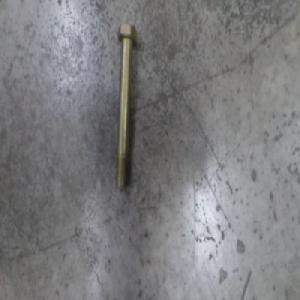Bolt: (113, 19, 138, 192)
